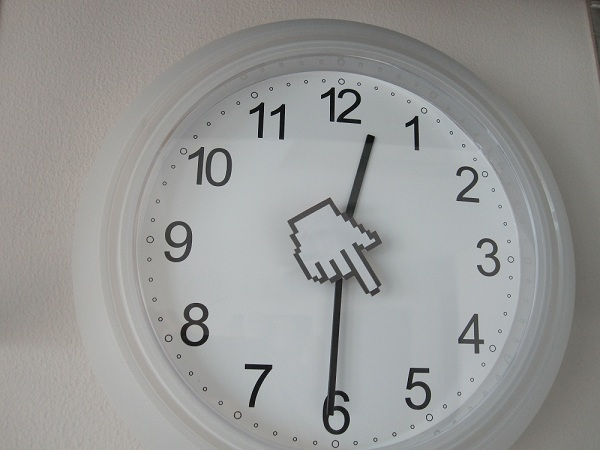clock: (77, 19, 576, 450)
